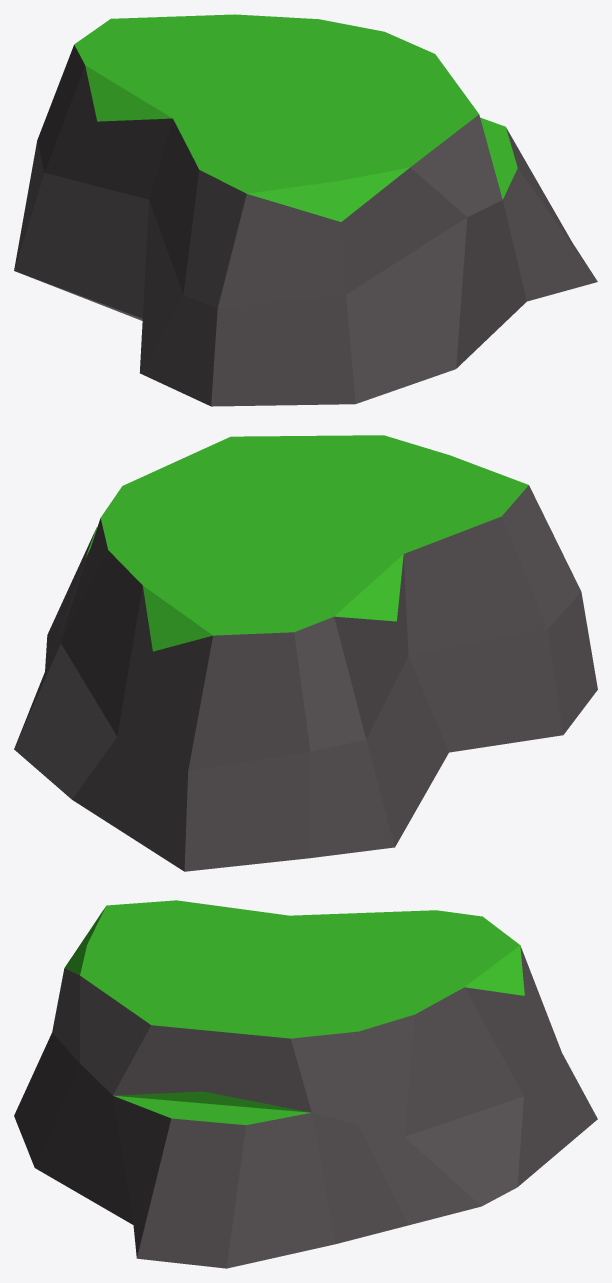
File: mountain_S1.fbx
3 views of the same model, one above another, from view 1: azimuth 30°, elevation 25°; view 2: azimuth 150°, elevation 25°; view 3: azimuth 270°, elevation 25° (orthographic). The views are drawn at different scales.
Visible parts, largest first — view 1: Circle.001; view 2: Circle.001; view 3: Circle.001.
Part boxes in pixels (bbox=[...]): Circle.001: bbox=[14, 14, 597, 406]; Circle.001: bbox=[14, 435, 597, 871]; Circle.001: bbox=[14, 900, 597, 1268].
Bounding box in the file's own units: 1108 × 452 × 1277.
